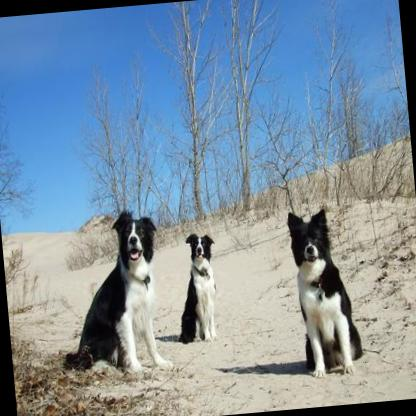collie: (63, 205, 174, 379), (284, 202, 364, 380), (170, 232, 220, 344)
